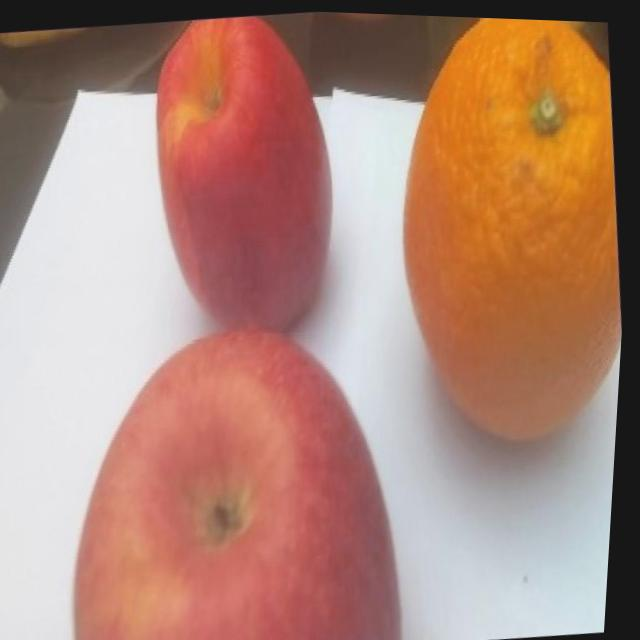Apple: (45, 303, 422, 640), (134, 4, 357, 346)
Orange: (371, 11, 640, 460)
